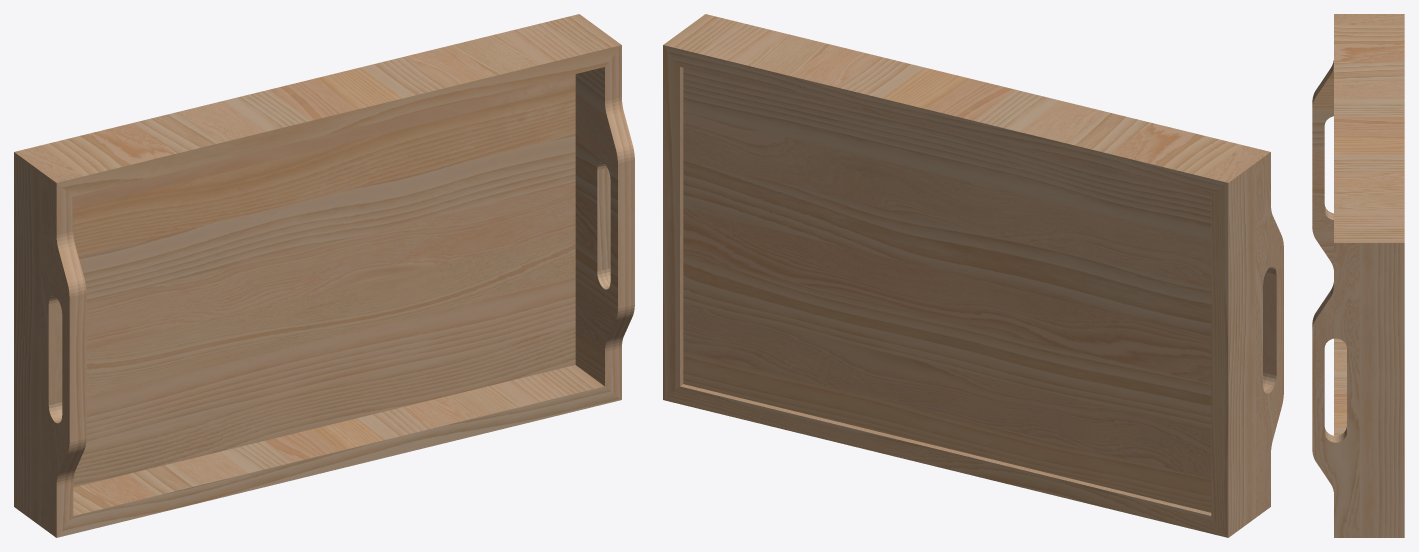
3 views of the same model, side by side, from view 1: azimuth 30°, elevation 25°; view 2: azimuth 150°, elevation 25°; view 3: azimuth 270°, elevation 25° (orthographic). The views are drawn at different scales.
Bounding box in the file's own units: 1 × 0.6 × 0.17.
